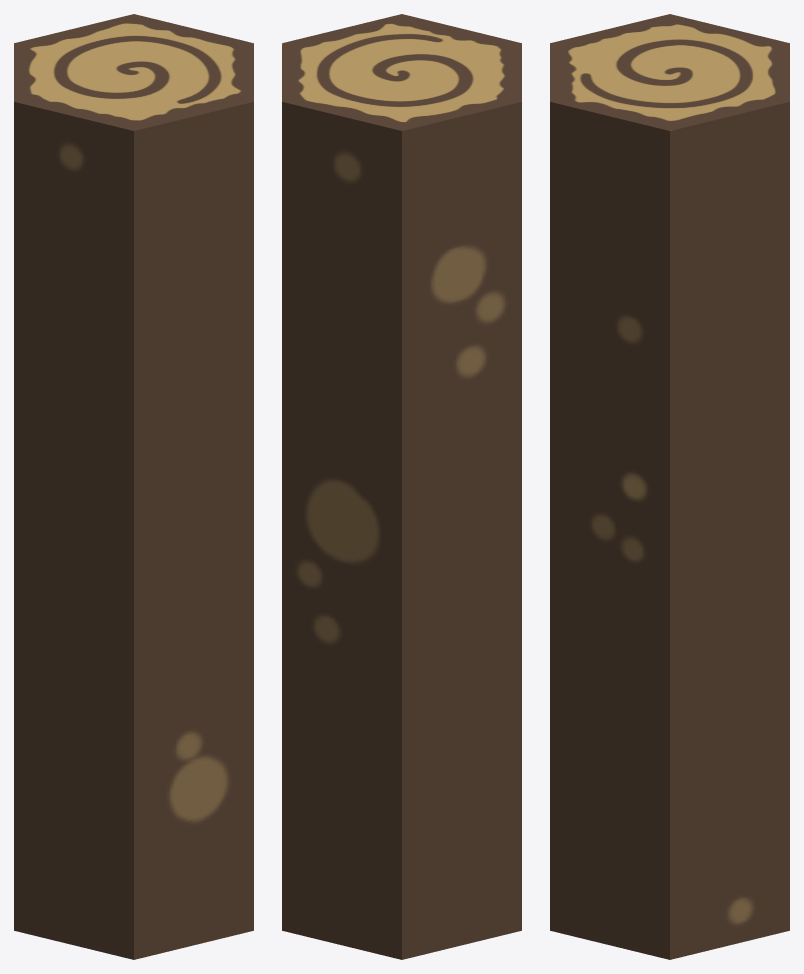
The model's file is log.fbx.
3 renders of one model, left to right at view 1: azimuth 30°, elevation 25°; view 2: azimuth 150°, elevation 25°; view 3: azimuth 270°, elevation 25°, orthographic.
Parts seen in each view (by area): view 1: pCylinder1; view 2: pCylinder1; view 3: pCylinder1.
Boxes of the visible parts, left/top/right/bottom form: pCylinder1: left=14, top=14, right=253, bottom=959; pCylinder1: left=282, top=14, right=521, bottom=959; pCylinder1: left=550, top=14, right=789, bottom=959.
Size of the model in its own units: 0.4678 by 1.54 by 0.4052.
Materials: 1 (1 with a texture image).
